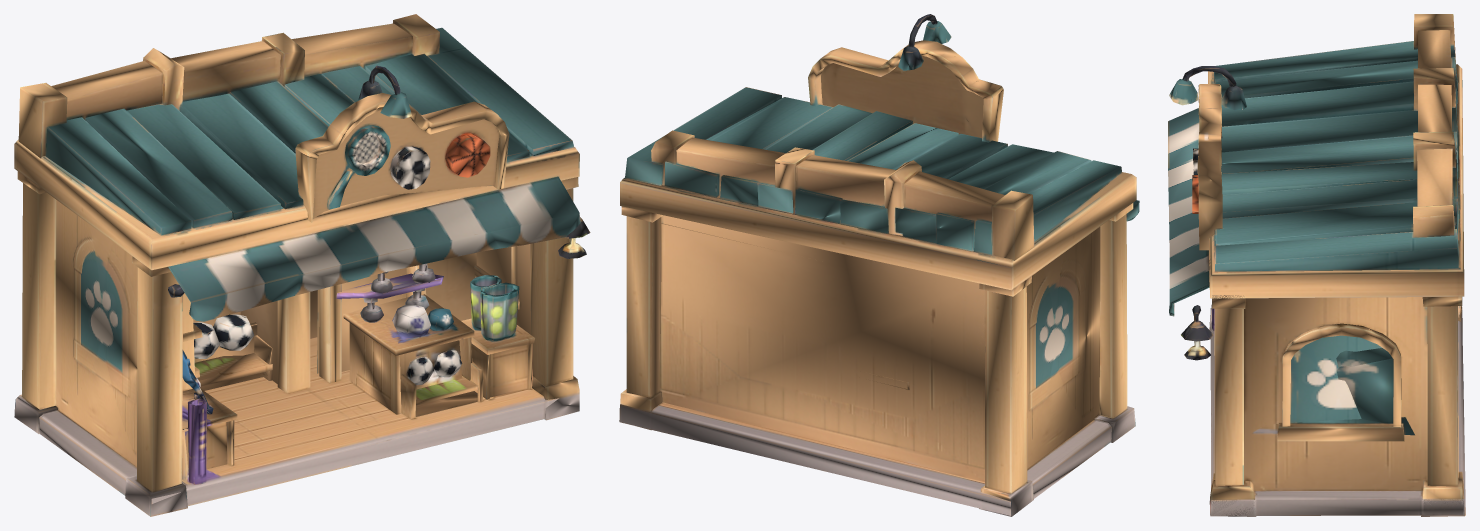
Rendered from park-sports-shop.glb.
3 renders of one model, left to right at view 1: azimuth 30°, elevation 25°; view 2: azimuth 150°, elevation 25°; view 3: azimuth 270°, elevation 25°, orthographic. The views are drawn at different scales.
Parts seen in each view (by area): view 1: Mesh_0.002; view 2: Mesh_0.002; view 3: Mesh_0.002.
Boxes of the visible parts, x1,y1,x2,y2 form: Mesh_0.002: (14, 14, 590, 516); Mesh_0.002: (619, 14, 1139, 516); Mesh_0.002: (1168, 14, 1465, 516).
Size of the model in its own units: 4.59 by 4 by 2.98.
1 material, 1 textured.
